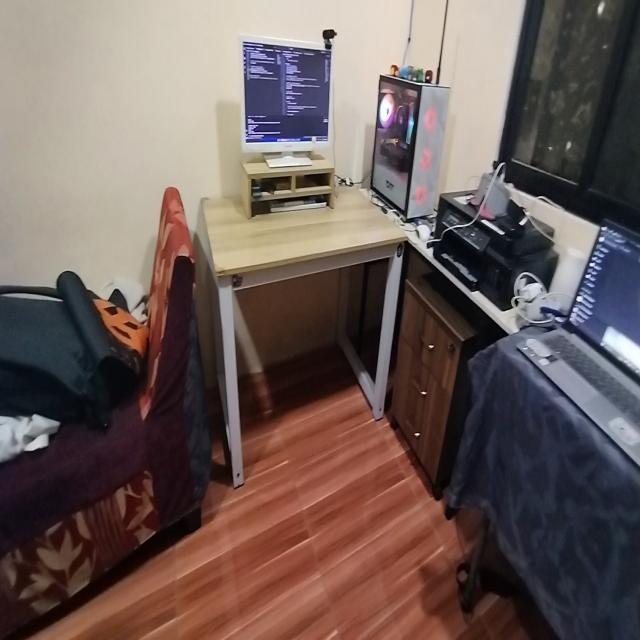table: (201, 172, 412, 486)
